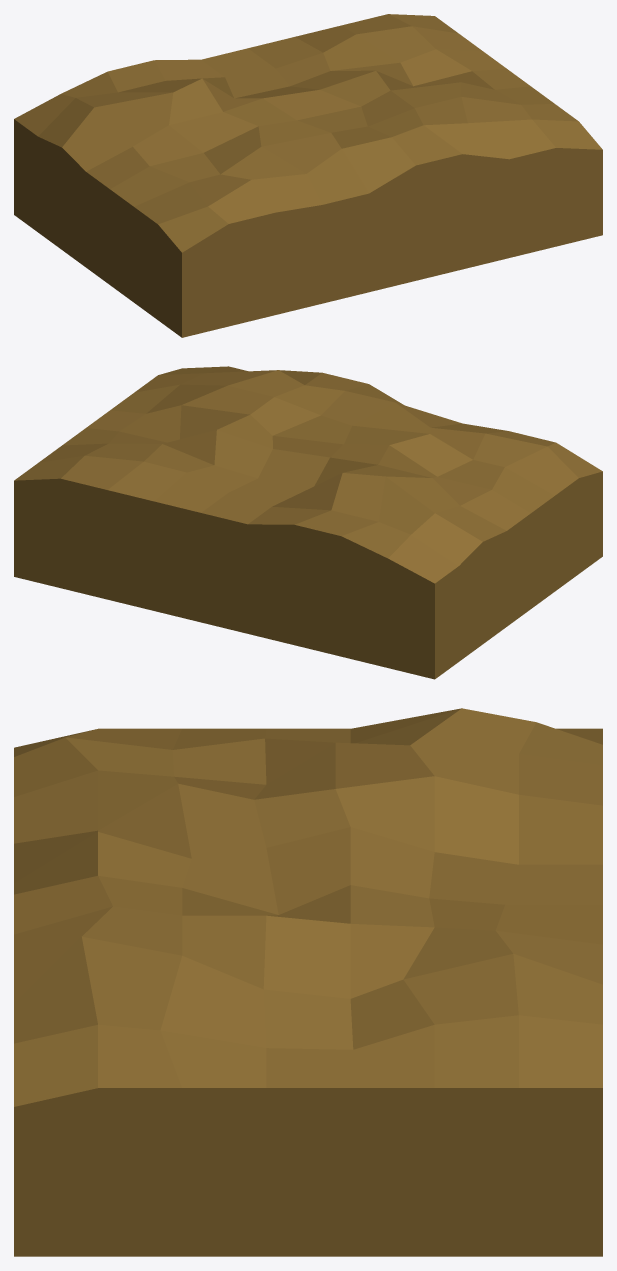
File: ground2.fbx
The picture shows the model from 3 angles, top to bottom: view 1: azimuth 30°, elevation 25°; view 2: azimuth 150°, elevation 25°; view 3: azimuth 270°, elevation 25°; orthographic projection. The views are drawn at different scales.
Parts seen in each view (by area): view 1: pCube1; view 2: pCube1; view 3: pCube1.
Part boxes in pixels (box(x1,y1,x2,y2)): pCube1: box(14, 14, 602, 337); pCube1: box(14, 366, 602, 679); pCube1: box(14, 708, 602, 1256).
Size of the model in its own units: 14.46 by 4.51 by 10.
